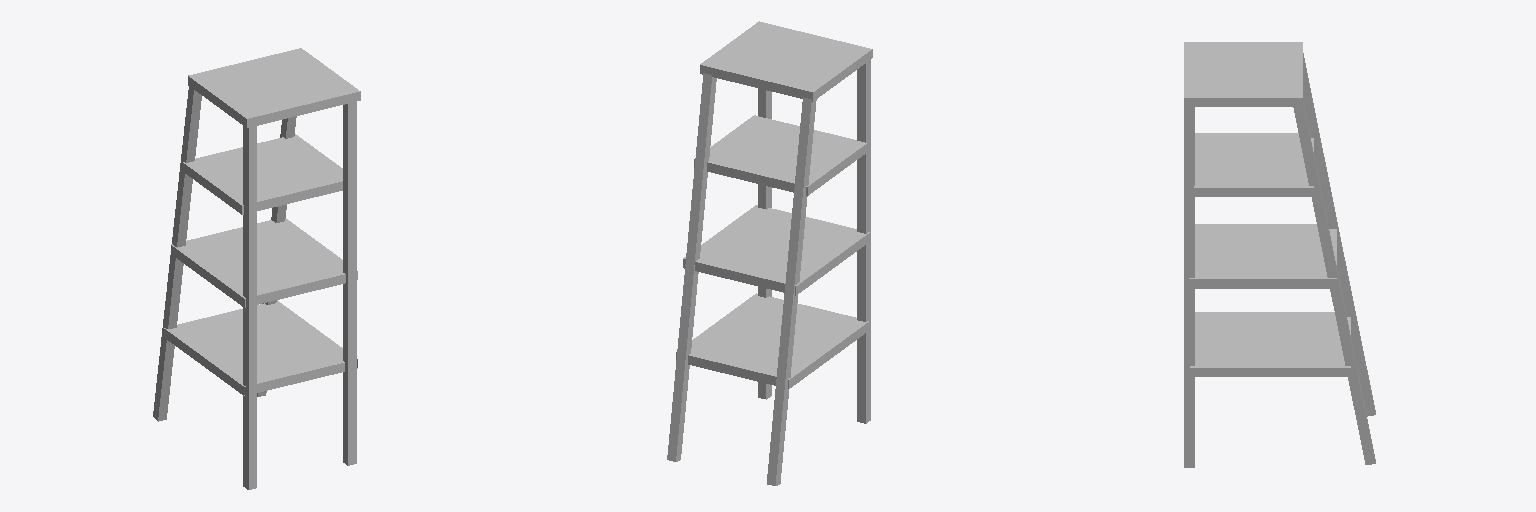
The model's file is 置物架.obj.
3 views of the same model, side by side, from view 1: azimuth 30°, elevation 25°; view 2: azimuth 150°, elevation 25°; view 3: azimuth 270°, elevation 25° (orthographic).
Parts seen in each view (by area): view 1: Cube.001; view 2: Cube.001; view 3: Cube.001.
Part boxes in pixels (x1,y1,x2,y2): Cube.001: (153,48,360,489); Cube.001: (667,21,872,485); Cube.001: (1184,42,1375,467).
Size of the model in its own units: 1.28 by 4.01 by 1.87.